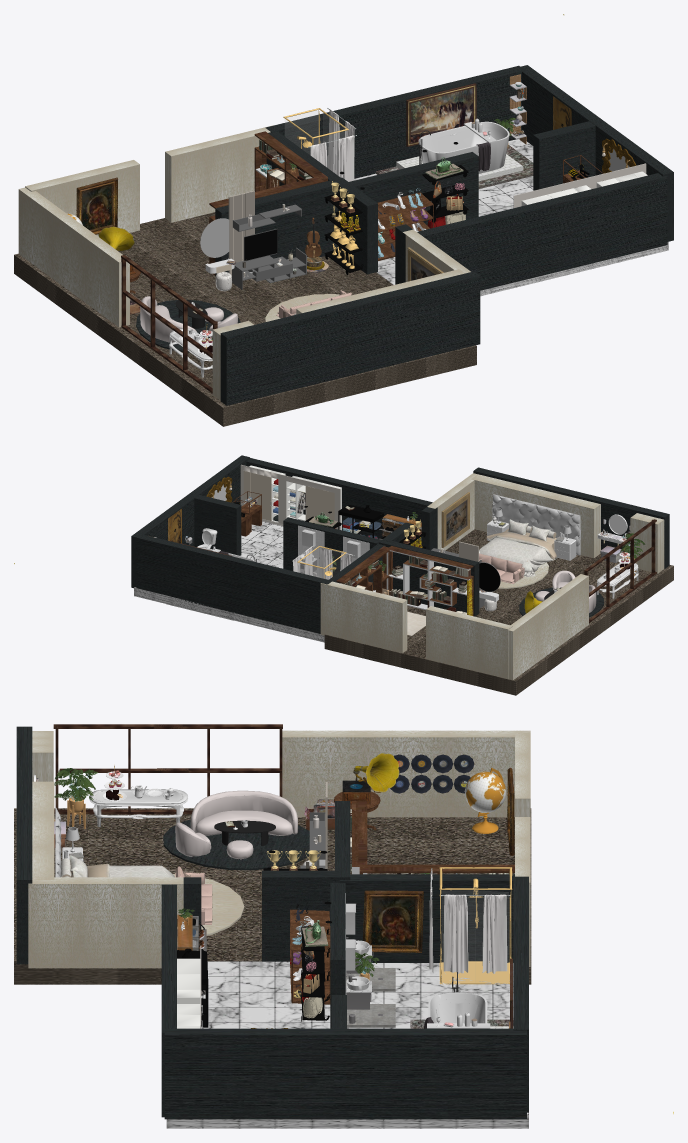
The model's file is 02-master-bedroom.glb.
3 renders of one model, top to bottom at view 1: azimuth 30°, elevation 25°; view 2: azimuth 150°, elevation 25°; view 3: azimuth 270°, elevation 25°, orthographic. The views are drawn at different scales.
Parts seen in each view (by area): view 1: room; view 2: room; view 3: room.
Boxes of the visible parts, bbox=[...] form: room: bbox=[14, 14, 673, 426]; room: bbox=[14, 455, 673, 695]; room: bbox=[14, 724, 673, 1128].
Size of the model in its own units: 168 by 27.65 by 128.
Materials: 202 (102 with a texture image).
